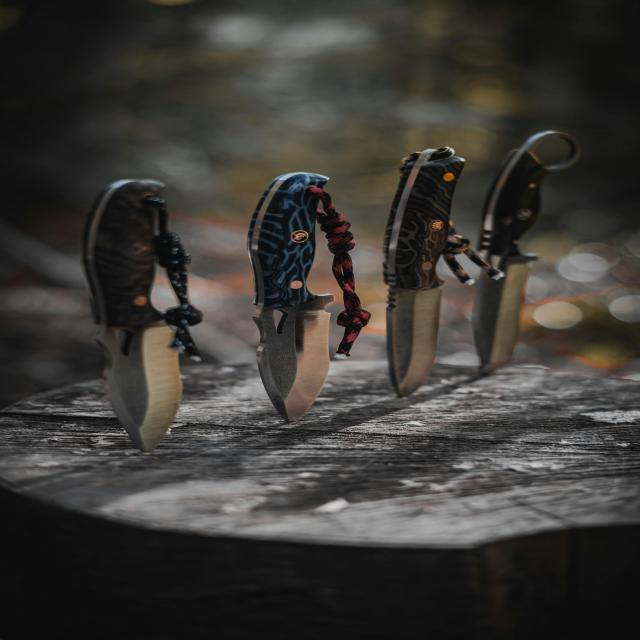knife: (81, 178, 184, 456), (473, 131, 582, 375), (248, 172, 336, 421), (383, 147, 467, 398)
